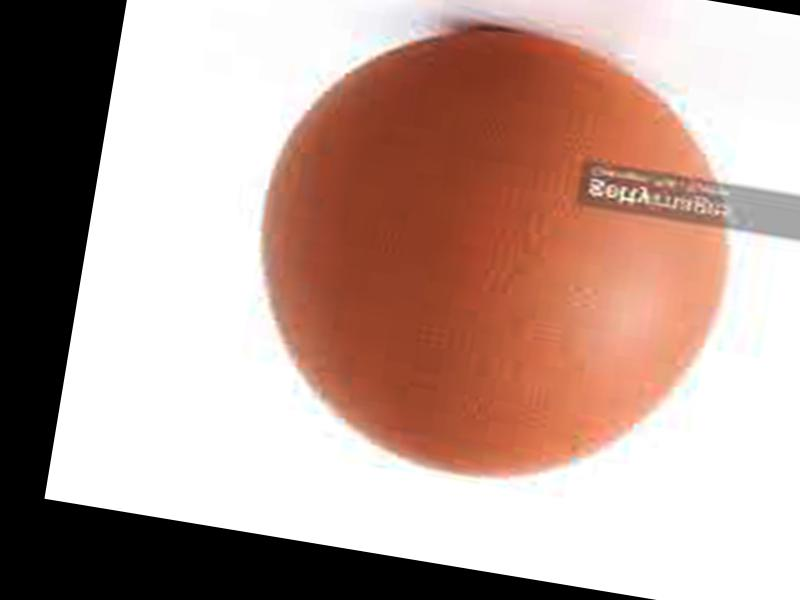Eggs: (228, 5, 759, 512)
